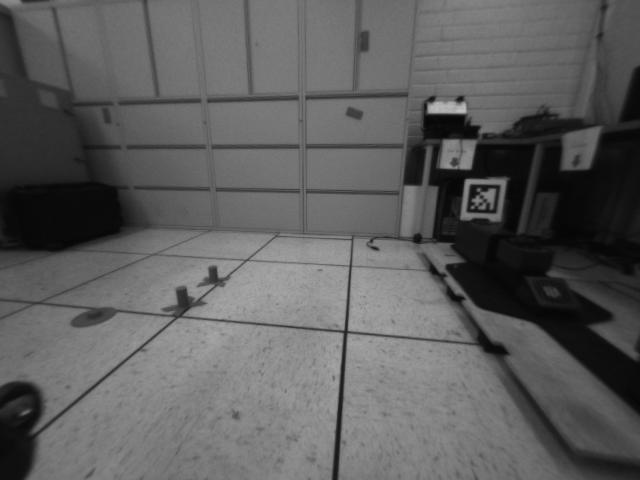X: (161, 286, 207, 316), (197, 263, 231, 287)
